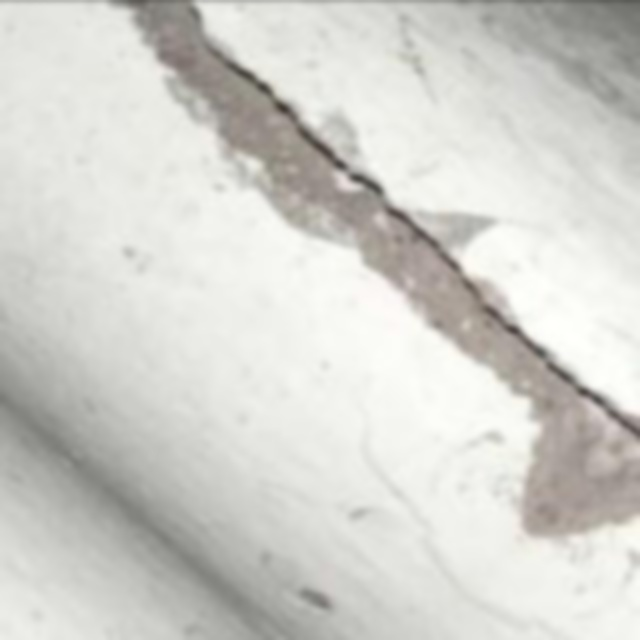SurfaceCrack: (190, 0, 640, 464)
